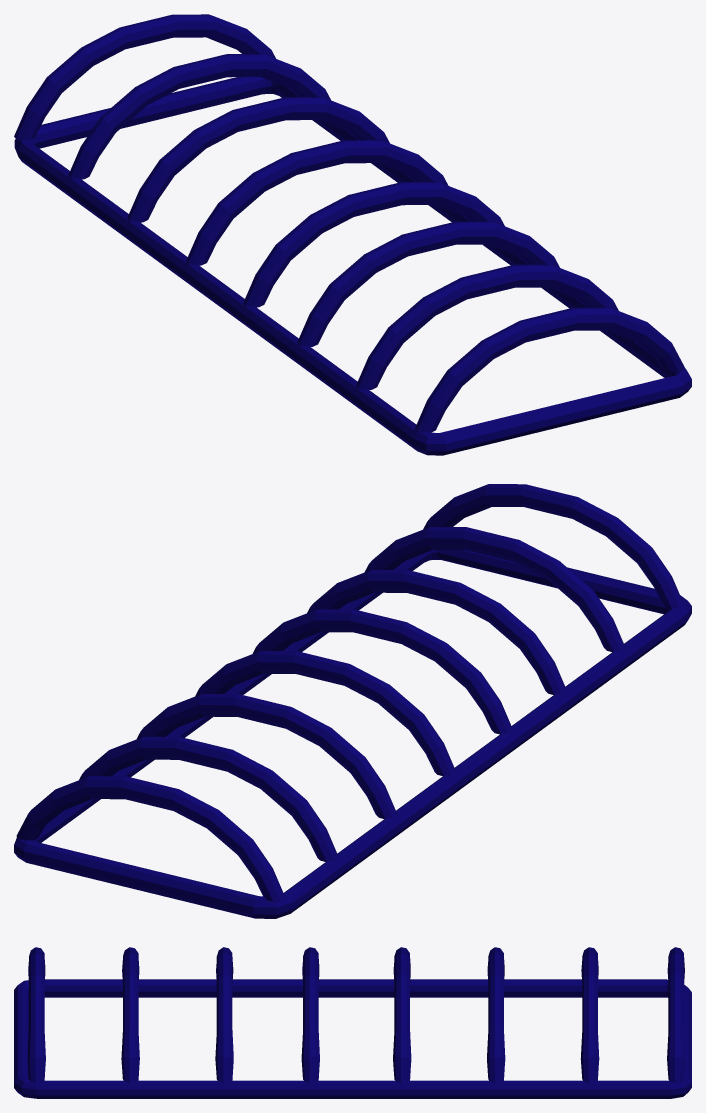
The model's file is bicicletario.fbx.
3 views of the same model, one above another, from view 1: azimuth 30°, elevation 25°; view 2: azimuth 150°, elevation 25°; view 3: azimuth 270°, elevation 25° (orthographic). The views are drawn at different scales.
Parts seen in each view (by area): view 1: Cylinder.001, Cylinder.002; view 2: Cylinder.001, Cylinder.002; view 3: Cylinder.002, Cylinder.001.
Boxes of the visible parts, left/top/right/bottom form: Cylinder.001: left=14, top=14, right=684, bottom=432; Cylinder.002: left=14, top=77, right=691, bottom=455; Cylinder.001: left=16, top=484, right=684, bottom=901; Cylinder.002: left=14, top=550, right=691, bottom=918; Cylinder.002: left=14, top=979, right=691, bottom=1098; Cylinder.001: left=27, top=947, right=685, bottom=1083.
Size of the model in its own units: 2.27 by 0.8246 by 6.08.
